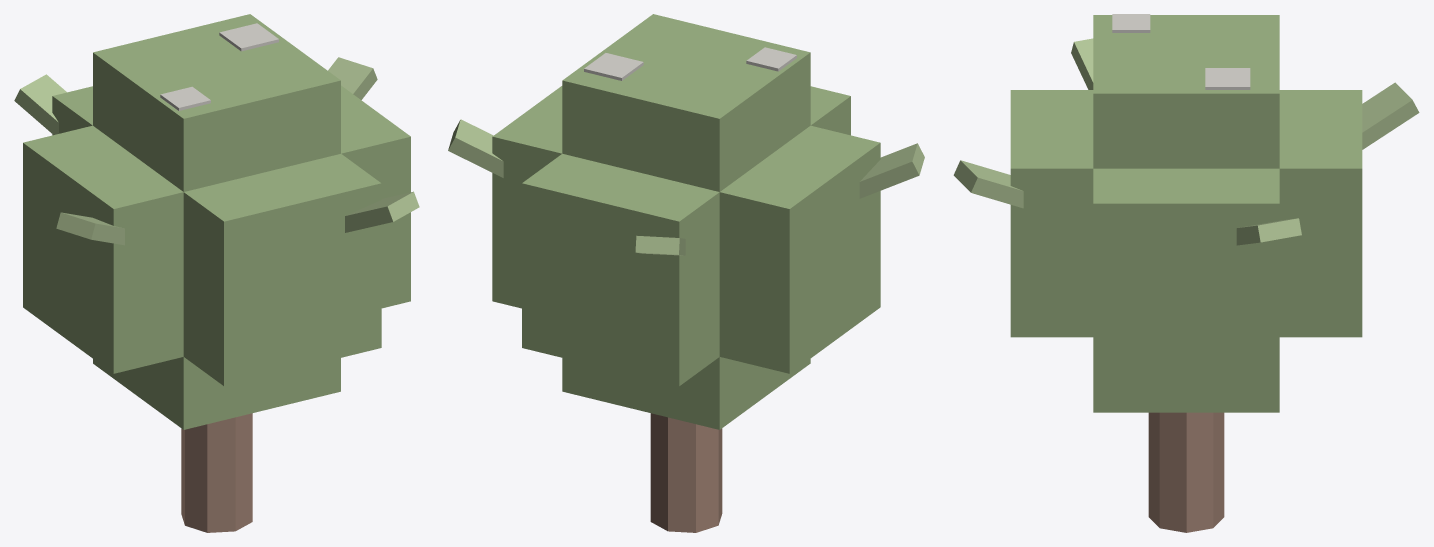
Rendered from Tree_Round.glb.
The picture shows the model from 3 angles, left to right: view 1: azimuth 30°, elevation 25°; view 2: azimuth 150°, elevation 25°; view 3: azimuth 270°, elevation 25°; orthographic projection. The views are drawn at different scales.
Parts seen in each view (by area): view 1: geometry_0; view 2: geometry_0; view 3: geometry_0.
Part boxes in pixels (x1,y1,x2,y2): geometry_0: (14,14,419,532); geometry_0: (448,14,924,532); geometry_0: (953,14,1419,532).
Bounding box in the file's own units: 1.35 × 1.49 × 1.35.
